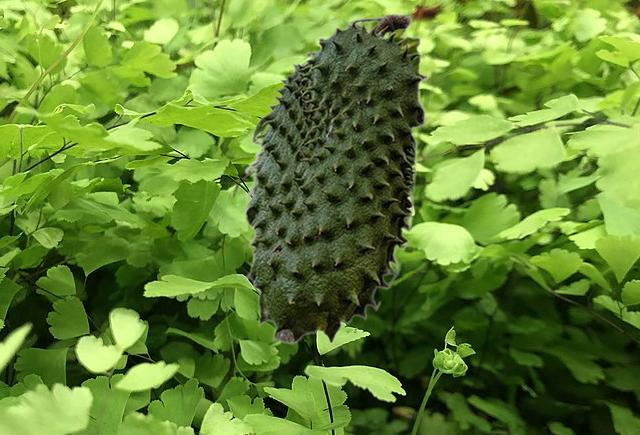guyabano: (242, 12, 427, 344)
